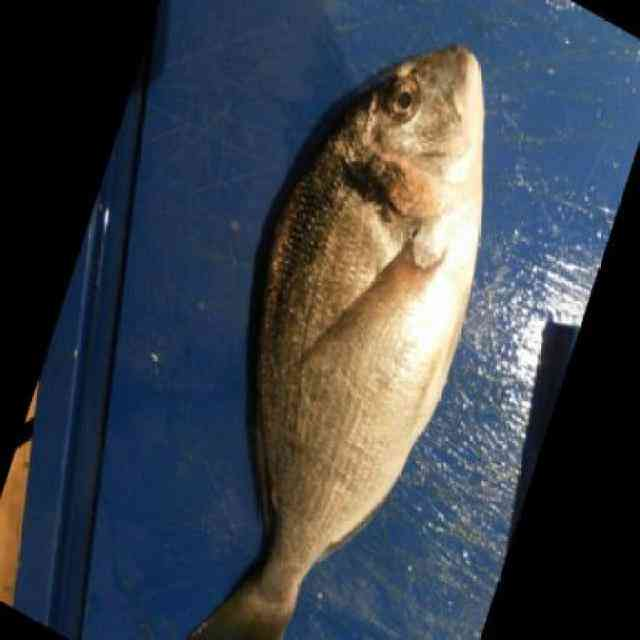Healthy Fish: (180, 40, 502, 640)
